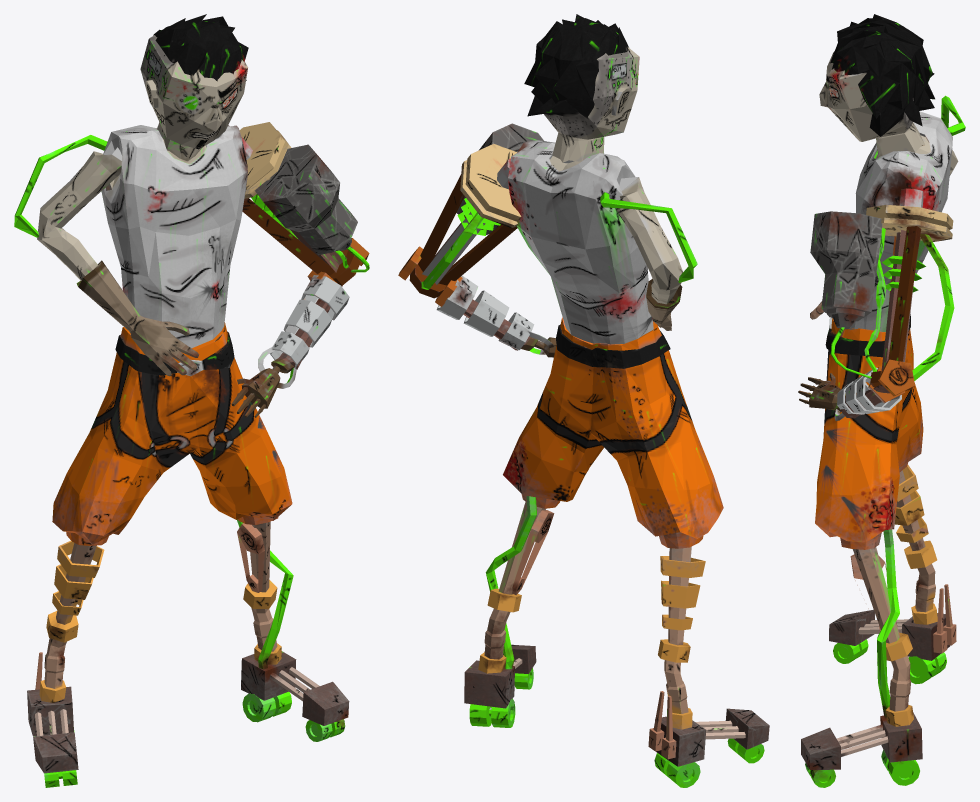
File: CyborgFINALAnimation_000035.obj
3 renders of one model, left to right at view 1: azimuth 30°, elevation 25°; view 2: azimuth 150°, elevation 25°; view 3: azimuth 270°, elevation 25°, orthographic.
Visible parts, largest first — view 1: CyborgMesh_Cube.002; view 2: CyborgMesh_Cube.002; view 3: CyborgMesh_Cube.002.
Part boxes in pixels (left/top/right/bottom): CyborgMesh_Cube.002: left=14, top=14, right=369, bottom=787; CyborgMesh_Cube.002: left=398, top=14, right=769, bottom=787; CyborgMesh_Cube.002: left=798, top=14, right=965, bottom=787.
Size of the model in its own units: 4.83 by 9.6 by 2.03.
